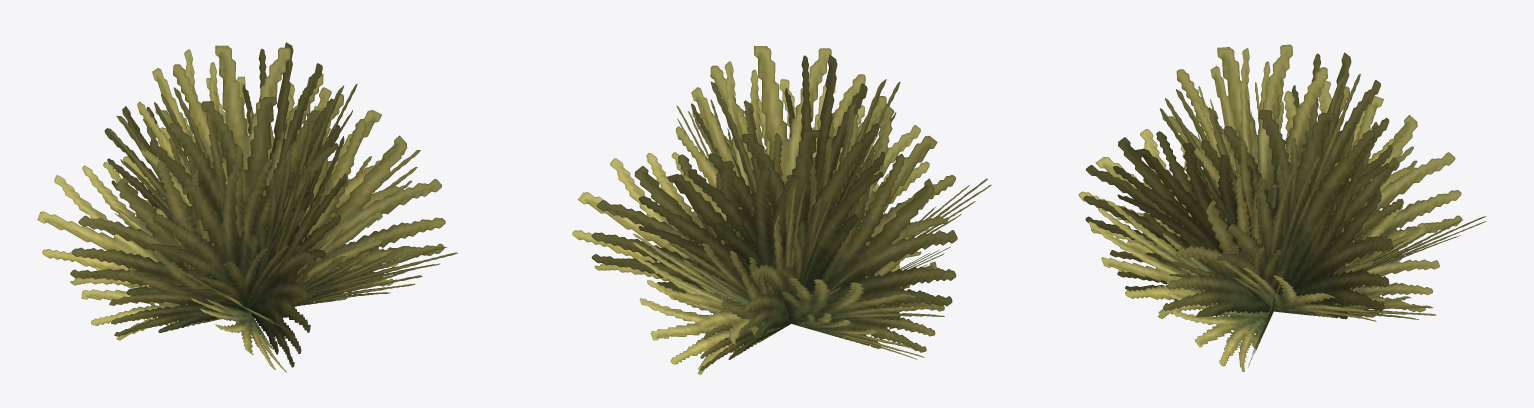
File: C1SNGRSA.obj
The picture shows the model from 3 angles, left to right: view 1: azimuth 30°, elevation 25°; view 2: azimuth 150°, elevation 25°; view 3: azimuth 270°, elevation 25°; orthographic projection. The views are drawn at different scales.
Visible parts, largest first — view 1: Node 0; view 2: Node 0; view 3: Node 0.
Part boxes in pixels (<box>): Node 0: <box>37,42,457,372</box>; Node 0: <box>572,46,991,374</box>; Node 0: <box>1078,44,1486,371</box>.
Size of the model in its own units: 1.87 by 1.1 by 1.99.
1 material, 1 textured.
